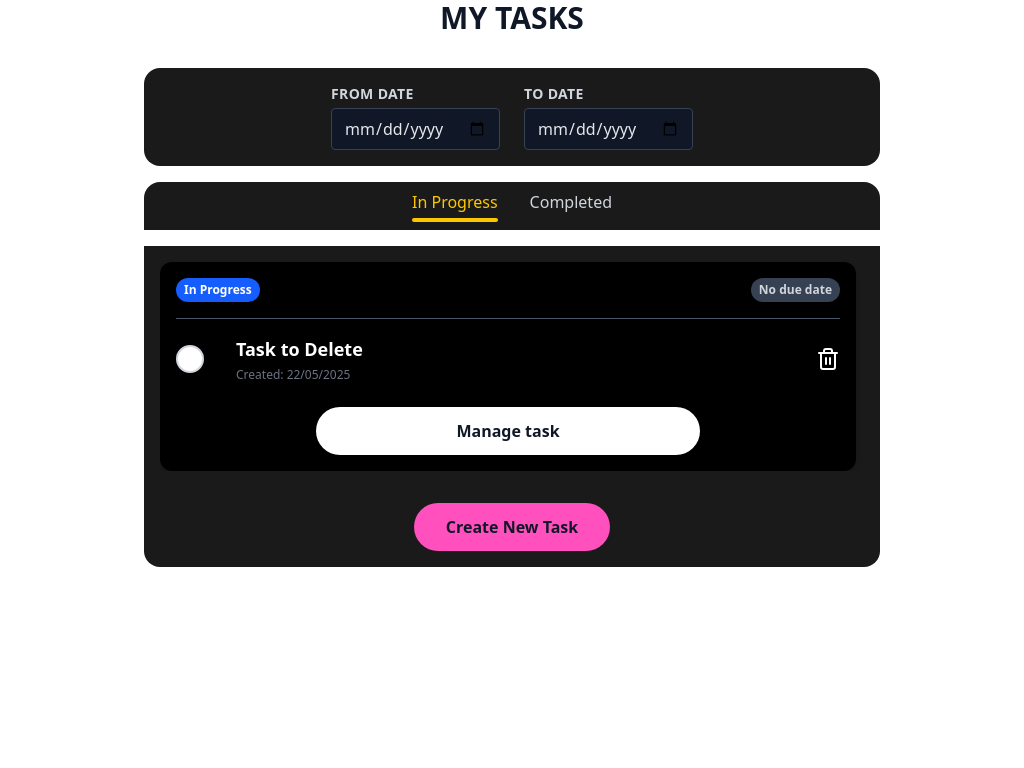
Scenario: Delete a task
expect the heading "Task to Delete" is shown: met, box x1=236 y1=337 x2=363 y2=361
Step 1. Click the button named "Delete Task" → x=828, y=359, box x1=816 y1=347 x2=840 y2=371
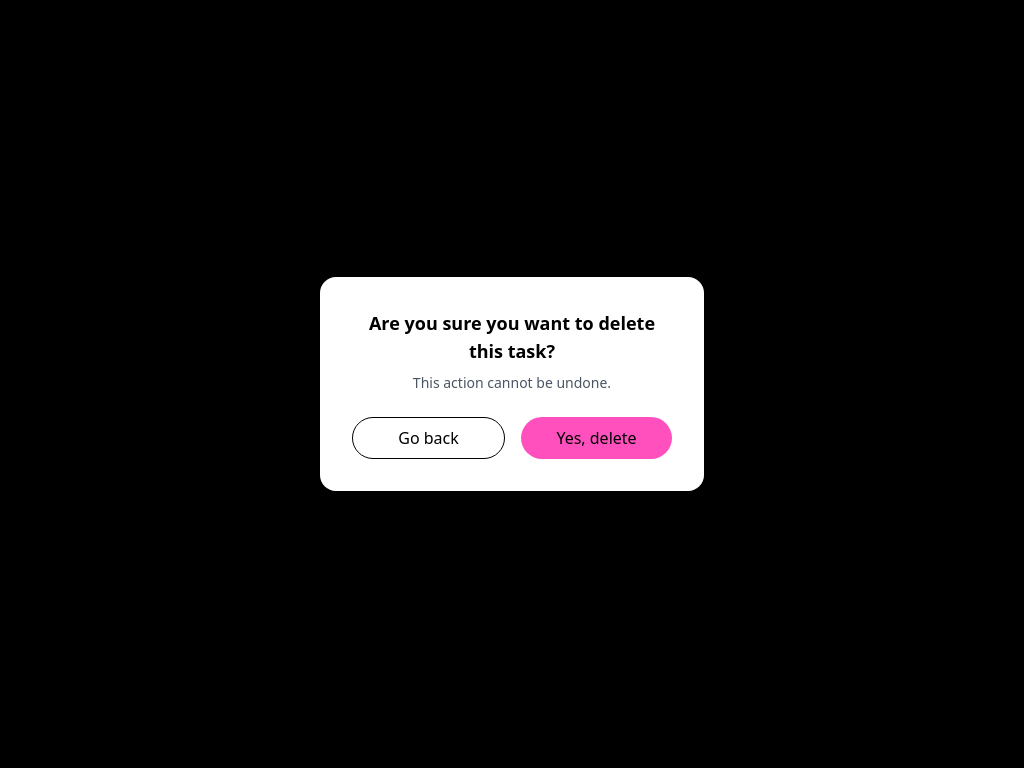
Step 2. Click the button with test id "confirm-delete-button" → x=596, y=438, box x1=521 y1=417 x2=672 y2=459
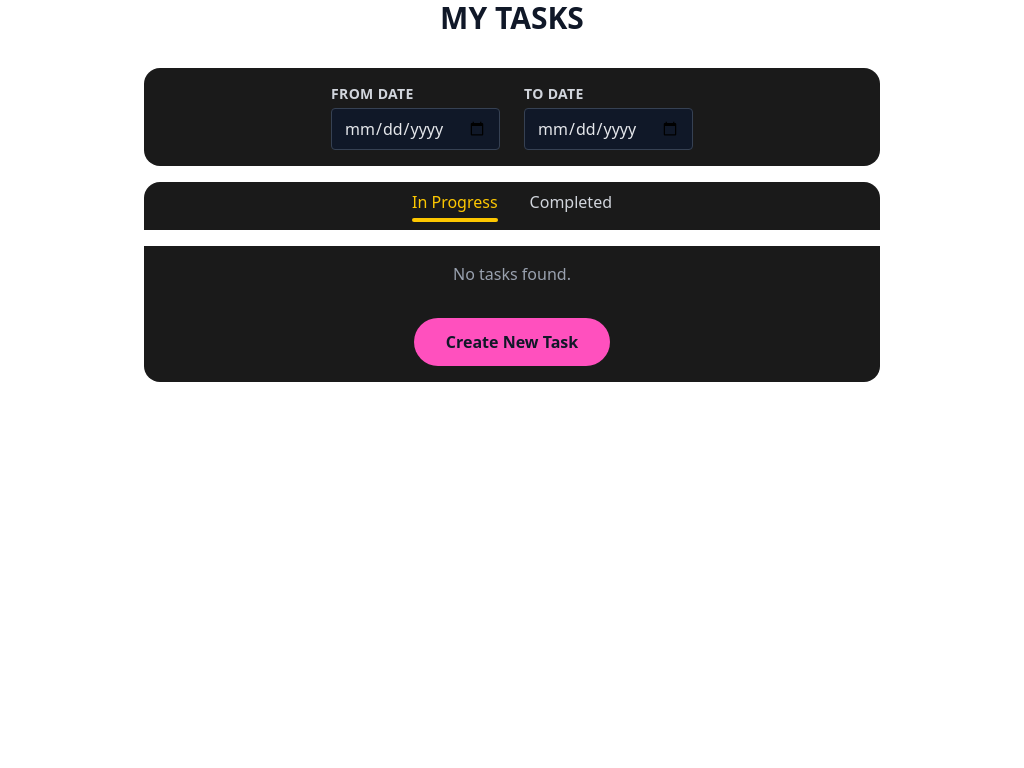
expect the heading "Task to Delete" is gone: met
